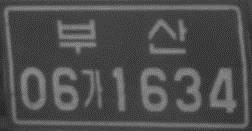0: (19, 63, 48, 113)
1: (110, 64, 128, 116)
3: (172, 65, 203, 114)
4: (205, 65, 238, 114)
6: (137, 64, 168, 112), (50, 64, 80, 113)
가: (79, 66, 106, 113)
부산_D: (53, 15, 189, 58)
